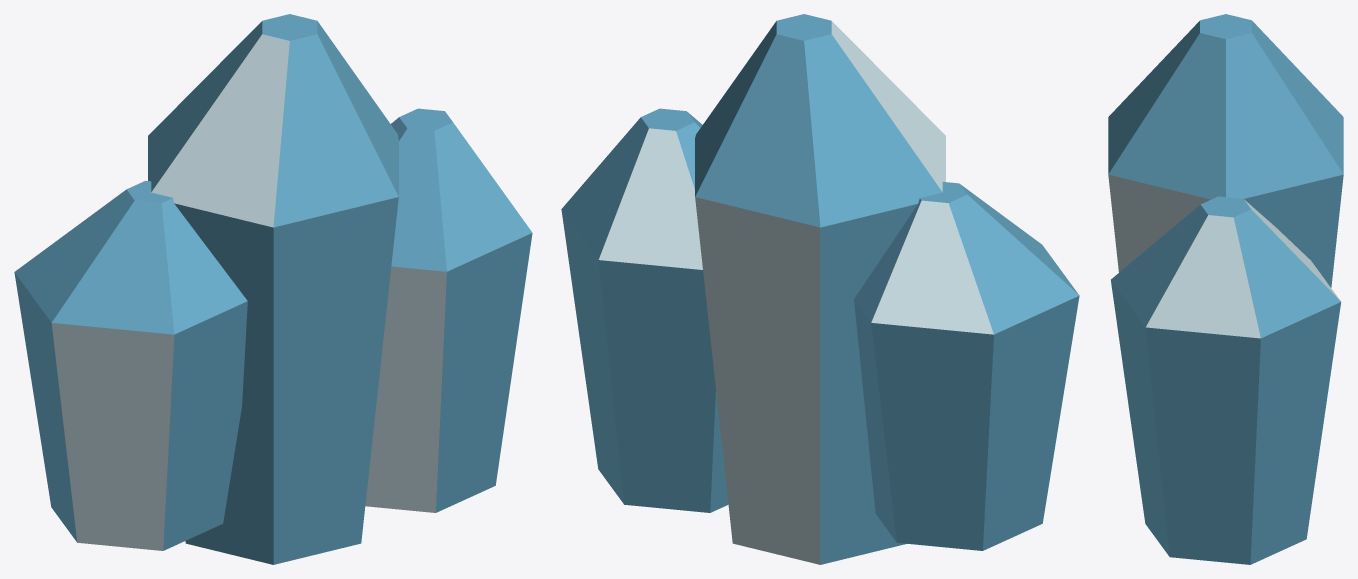
3 renders of one model, left to right at view 1: azimuth 30°, elevation 25°; view 2: azimuth 150°, elevation 25°; view 3: azimuth 270°, elevation 25°, orthographic. The views are drawn at different scales.
Visible parts, largest first — view 1: Ice_Deposit; view 2: Ice_Deposit; view 3: Ice_Deposit.
Part boxes in pixels (x1,y1,x2,y2): Ice_Deposit: [14, 14, 532, 564]; Ice_Deposit: [561, 14, 1079, 564]; Ice_Deposit: [1108, 14, 1343, 564].
Bounding box in the file's own units: 0.8821 × 0.86 × 0.3984.
